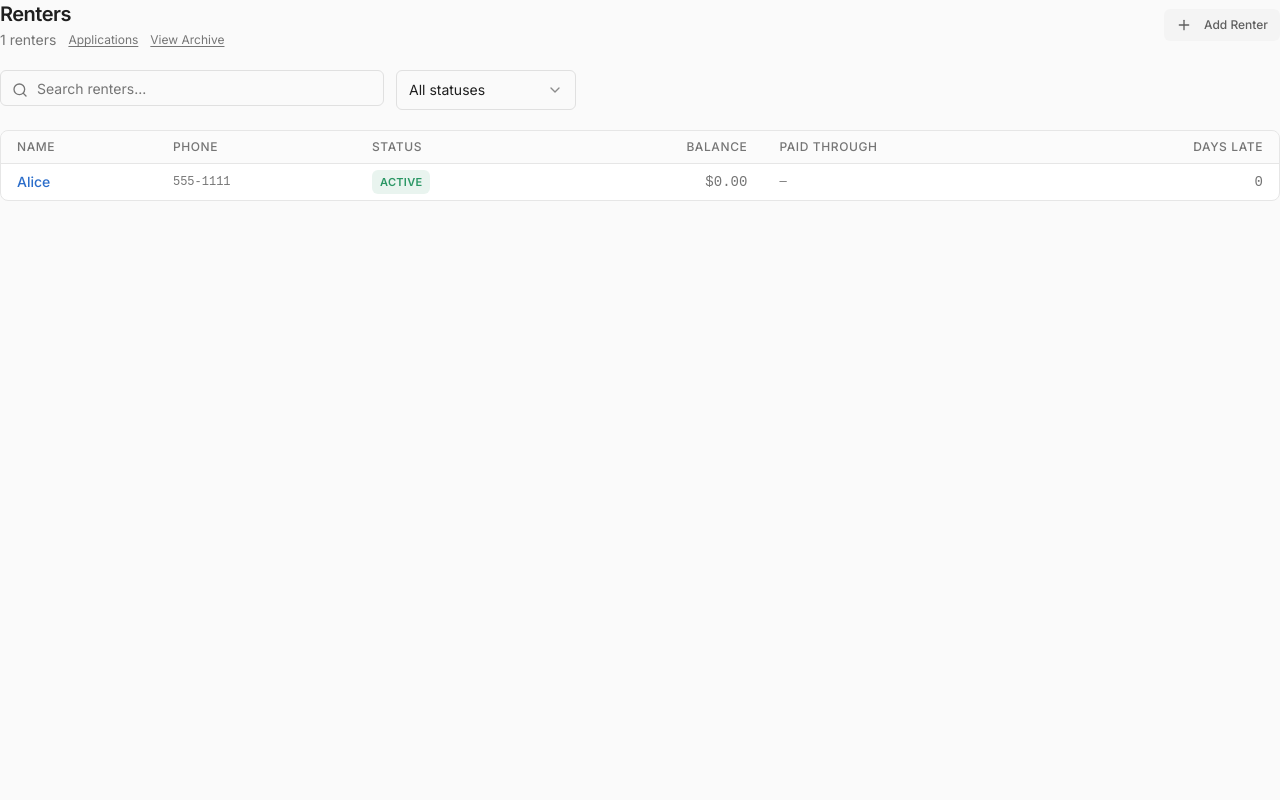
it: RentersList plan gating › shows a Starter upgrade prompt for free users at 10 billable renters
Click the button "Add Renter".
click(1222, 25)  # box [1164,9,1279,41]
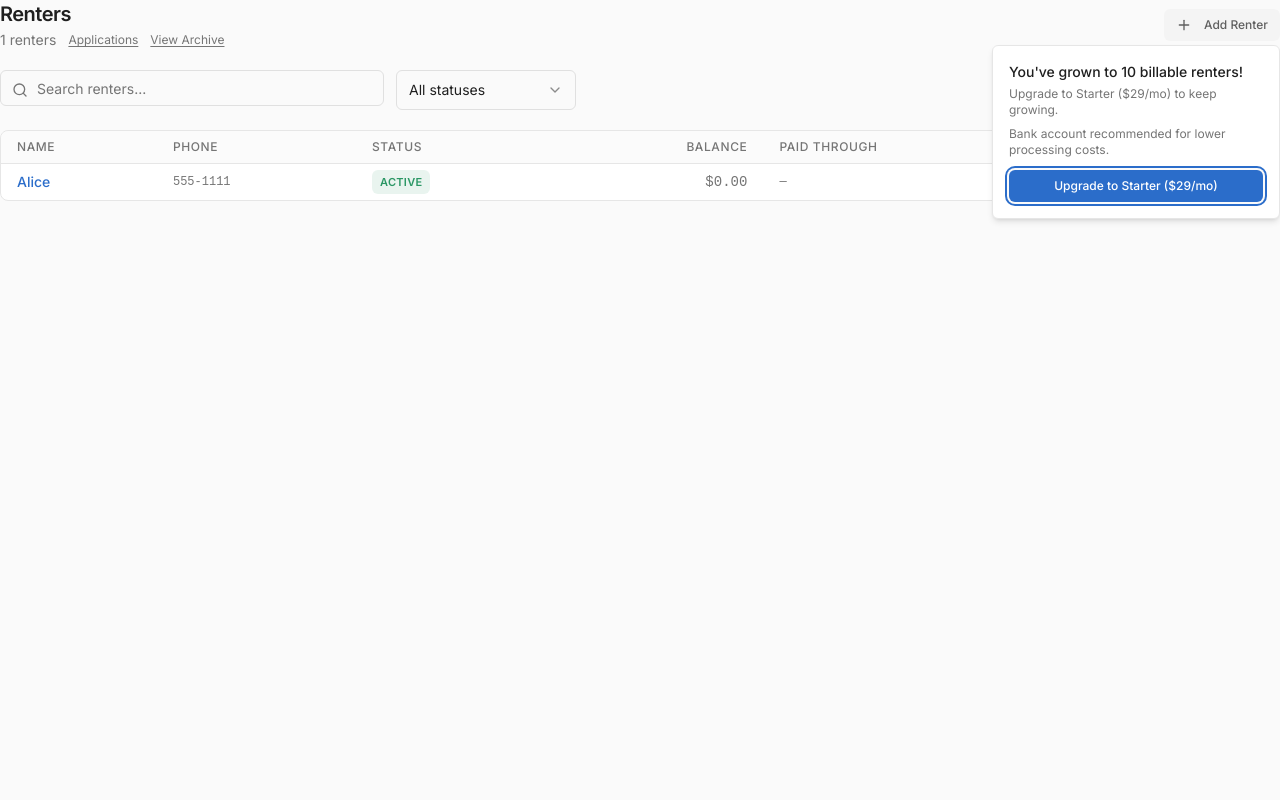
Now the text "You've grown to 10 billable renters!" is shown, box [1009,62,1263,82]
Now the button "Upgrade to Starter ($29/mo)" is shown, box [1009,170,1263,202]
